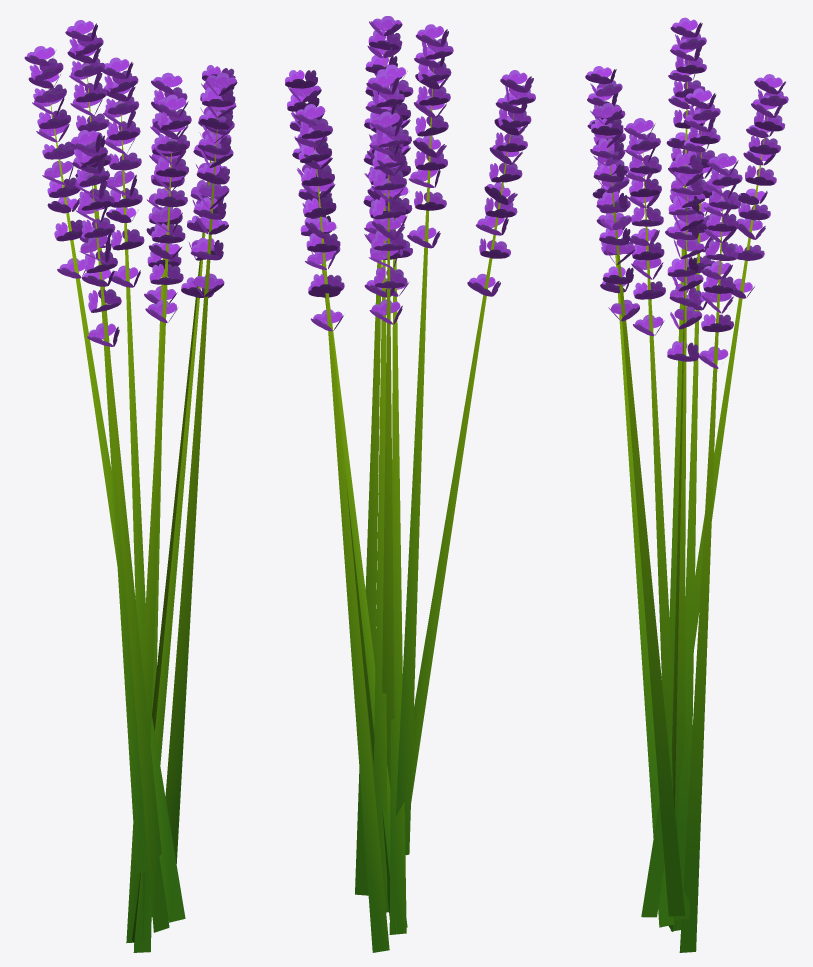
Rendered from menta_de_otay.fbx.
3 renders of one model, left to right at view 1: azimuth 30°, elevation 25°; view 2: azimuth 150°, elevation 25°; view 3: azimuth 270°, elevation 25°, orthographic. The views are drawn at different scales.
Visible parts, largest first — view 1: Lavender; view 2: Lavender; view 3: Lavender.
Boxes of the visible parts, box(x1,y1,x2,y2) form: Lavender: box(24, 20, 237, 952); Lavender: box(285, 16, 535, 952); Lavender: box(585, 17, 788, 952).
Size of the model in its own units: 41.65 by 171 by 38.23.
1 material, 1 textured.
